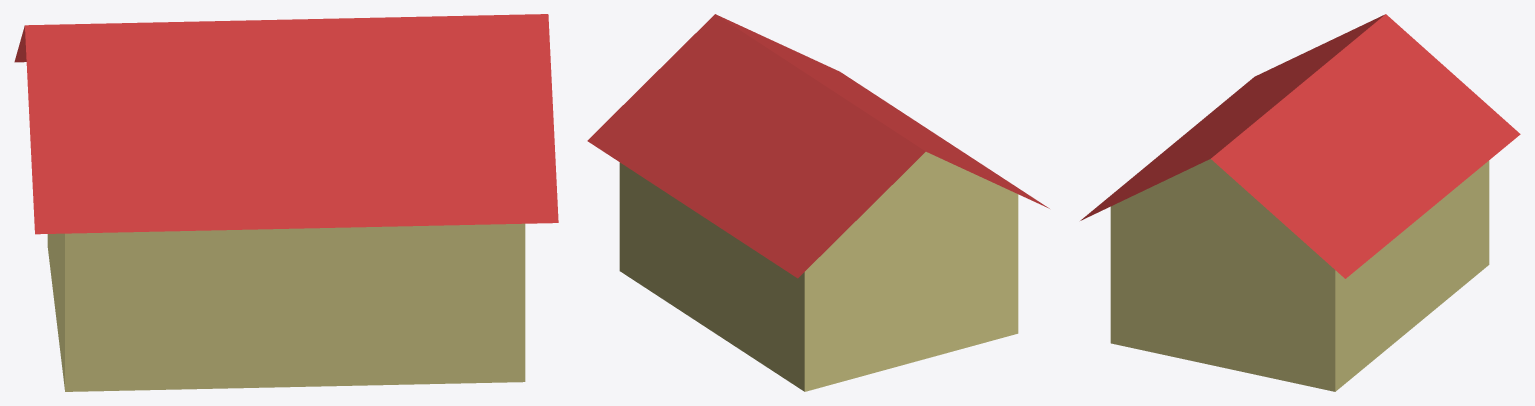
3 views of the same model, side by side, from view 1: azimuth 30°, elevation 25°; view 2: azimuth 150°, elevation 25°; view 3: azimuth 270°, elevation 25° (orthographic). The views are drawn at different scales.
Bounding box in the file's own units: 20.54 × 18.94 × 10.28.
